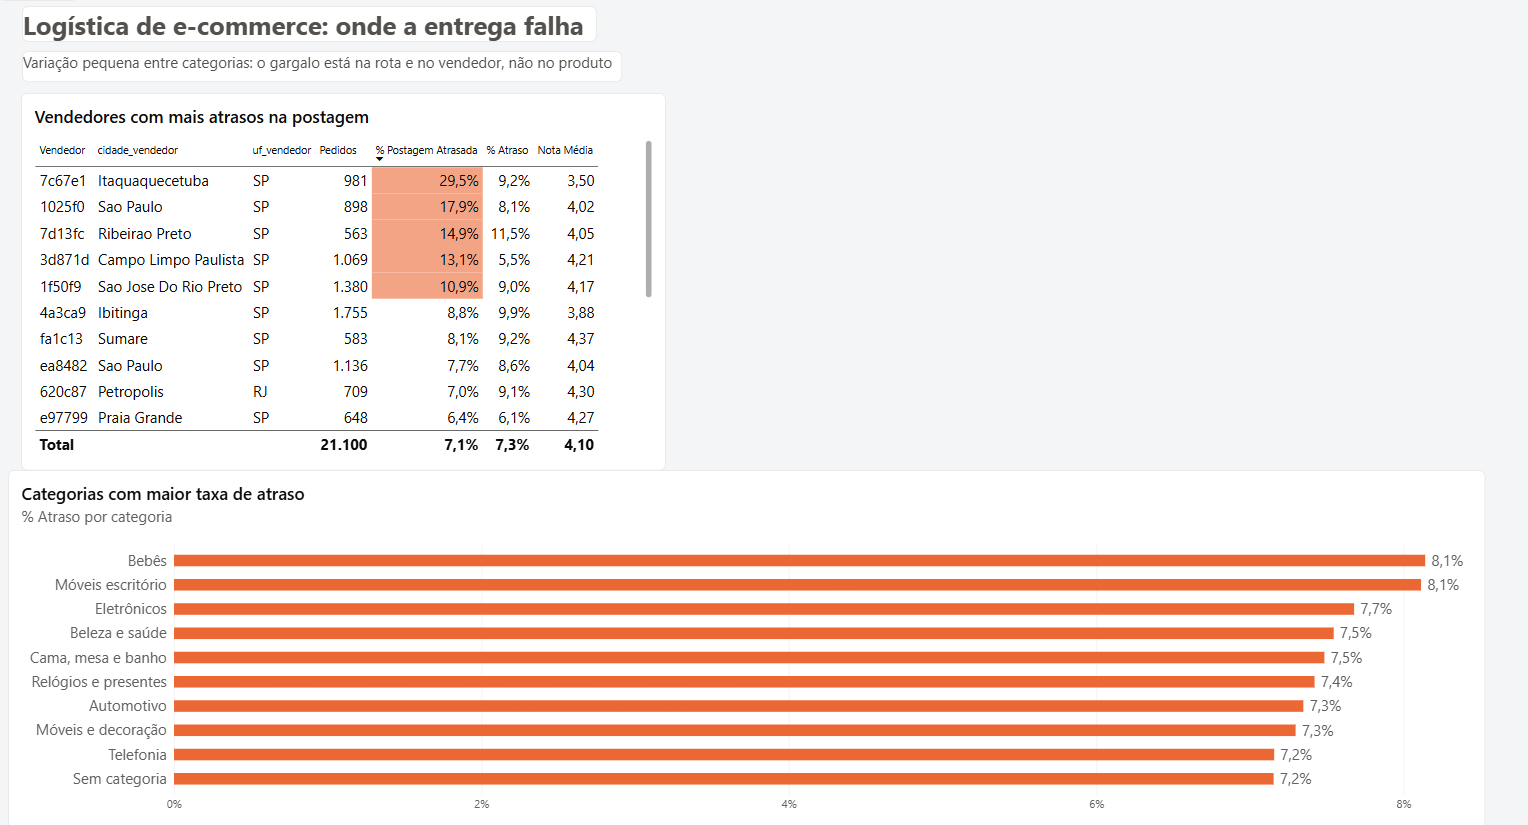

What the dashboard file says about the page in this screenshot:
{"tool":"powerbi","page":{"name":"Vendedores e categorias","canvas":[1920,1080],"ordinal":2},"visuals":[{"type":"textbox","box":[30.3,46.2,720.2,44.6],"z":0},{"type":"textbox","box":[30.7,103.3,751.9,38.7],"z":1000},{"type":"tableEx","title":"Vendedores com mais atrasos na postagem","fields":{"Values":["dim_vendedor.Vendedor","dim_vendedor.cidade_vendedor","dim_vendedor.uf_vendedor","_Medidas.Pedidos","_Medidas.% Postagem Atrasada","_Medidas.% Atraso","_Medidas.Nota Média"]},"box":[29,154.9,808.3,472.7],"z":2000},{"type":"actionButton","box":[0,0,100,40],"z":3000},{"type":"barChart","title":"Categorias com maior taxa de atraso","fields":{"Category":["dim_categoria.categoria"],"Y":["_Medidas.% Atraso"]},"box":[12.9,627.6,1850.6,451],"z":4000}]}

Visuals, with their boxes on the page's 1920x1080 design canvas (x1, y1, x2, y2). These are canvas units, not pixel positions in the 1528x825 screenshot, which may show the page scaled, cropped or inside an application window:
textbox: x1=30, y1=46, x2=750, y2=91
textbox: x1=31, y1=103, x2=783, y2=142
"Vendedores com mais atrasos na postagem" tableEx: x1=29, y1=155, x2=837, y2=628
actionButton: x1=0, y1=0, x2=100, y2=40
"Categorias com maior taxa de atraso" barChart: x1=13, y1=628, x2=1864, y2=1079
